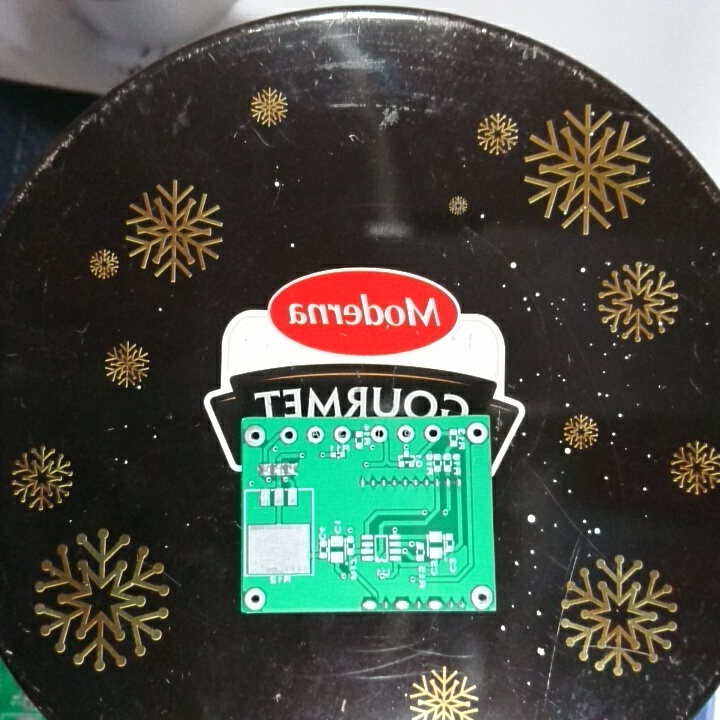F: (242, 585, 268, 612), (243, 423, 269, 449), (468, 584, 494, 609), (464, 420, 489, 444), (423, 422, 445, 446), (331, 422, 352, 447), (394, 423, 416, 446), (368, 423, 391, 445), (278, 425, 299, 446), (305, 424, 325, 445)
P: (391, 595, 411, 612), (425, 595, 445, 612), (359, 597, 381, 612)
